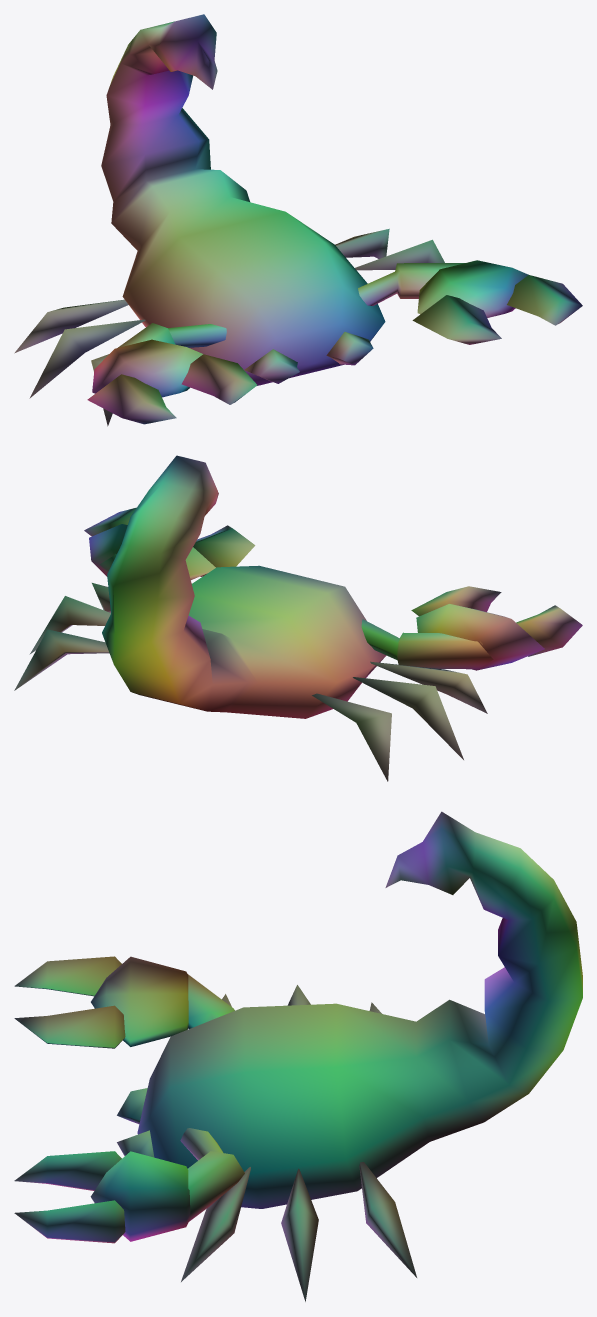
File: Scorpion_Rig_meshes.fbx
3 views of the same model, one above another, from view 1: azimuth 30°, elevation 25°; view 2: azimuth 150°, elevation 25°; view 3: azimuth 270°, elevation 25° (orthographic). The views are drawn at different scales.
Parts seen in each view (by area): view 1: Scorpion_Rig_000; view 2: Scorpion_Rig_000; view 3: Scorpion_Rig_000.
Part boxes in pixels (left/top/right/bottom): Scorpion_Rig_000: left=14, top=14, right=582, bottom=426; Scorpion_Rig_000: left=14, top=455, right=582, bottom=781; Scorpion_Rig_000: left=14, top=811, right=582, bottom=1301.
Bounding box in the file's own units: 438 × 253 × 370.
